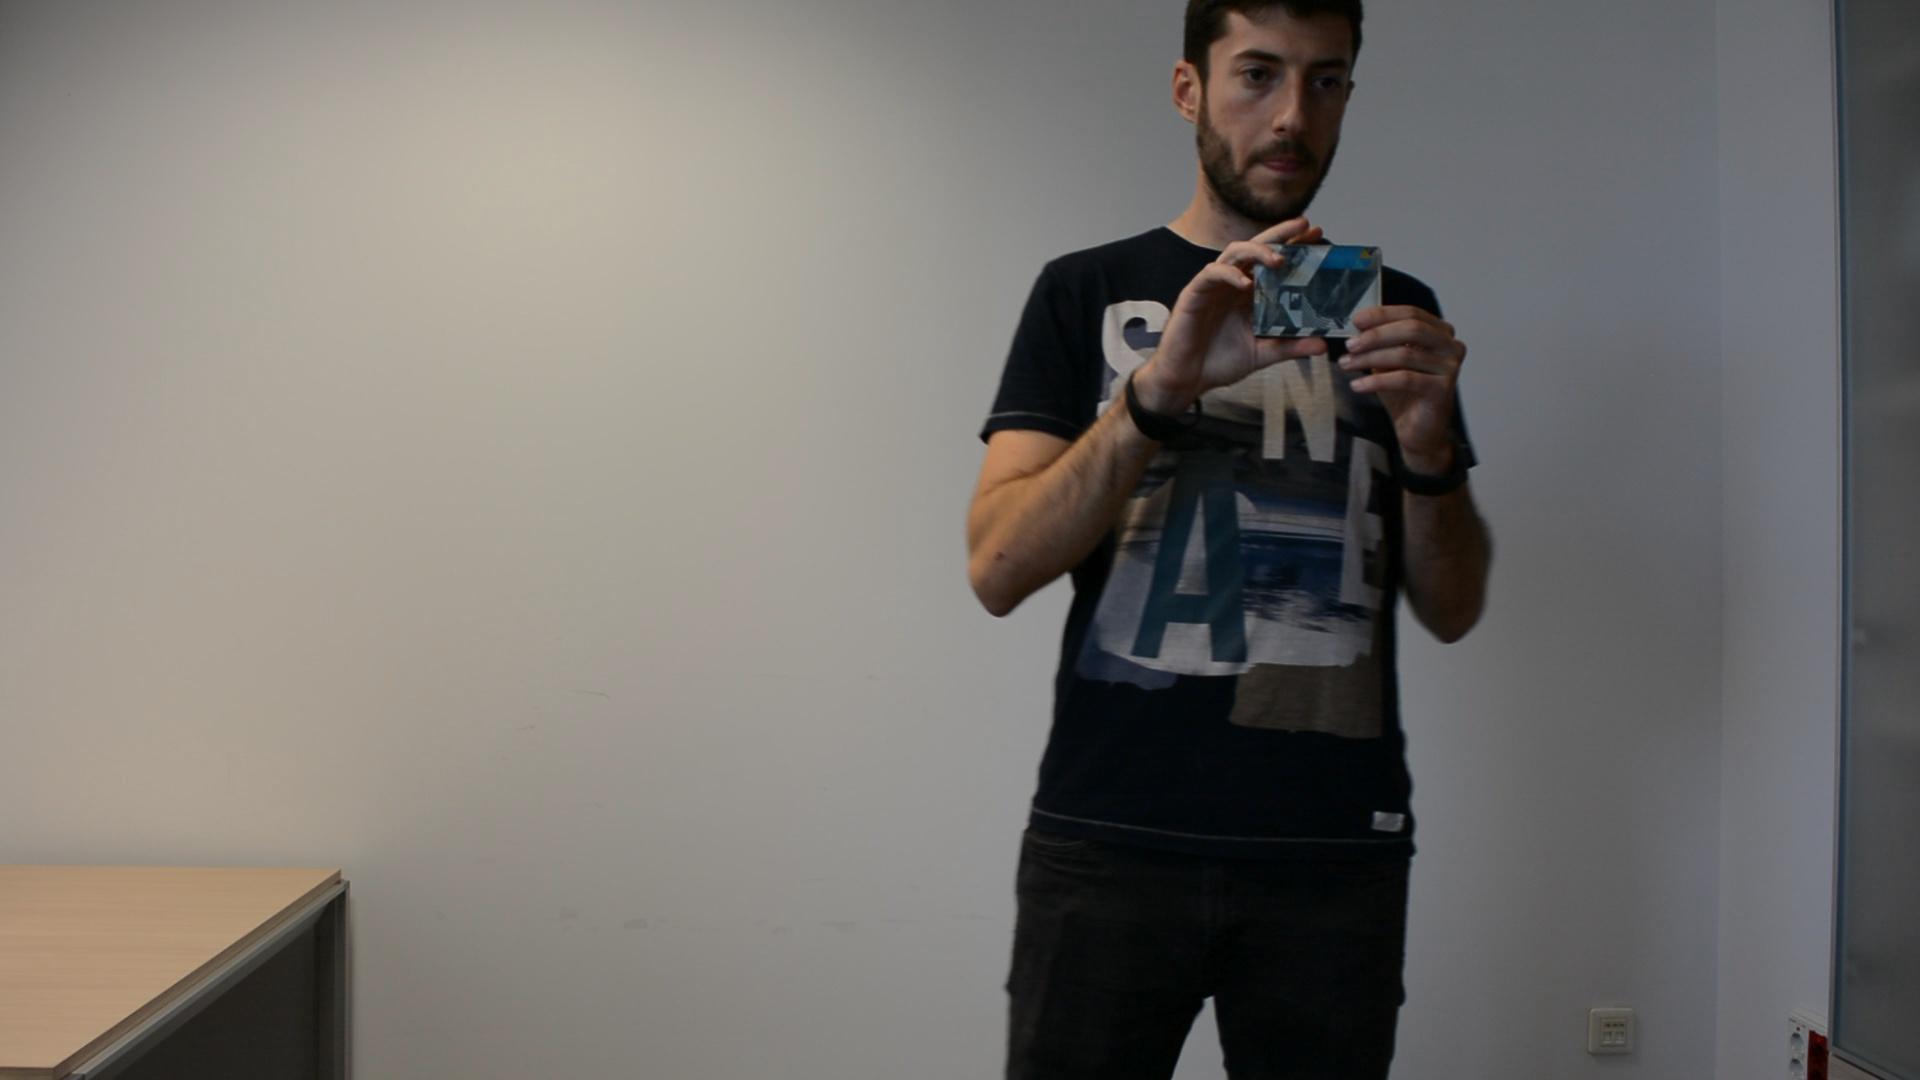monedero: (1250, 241, 1385, 348)
